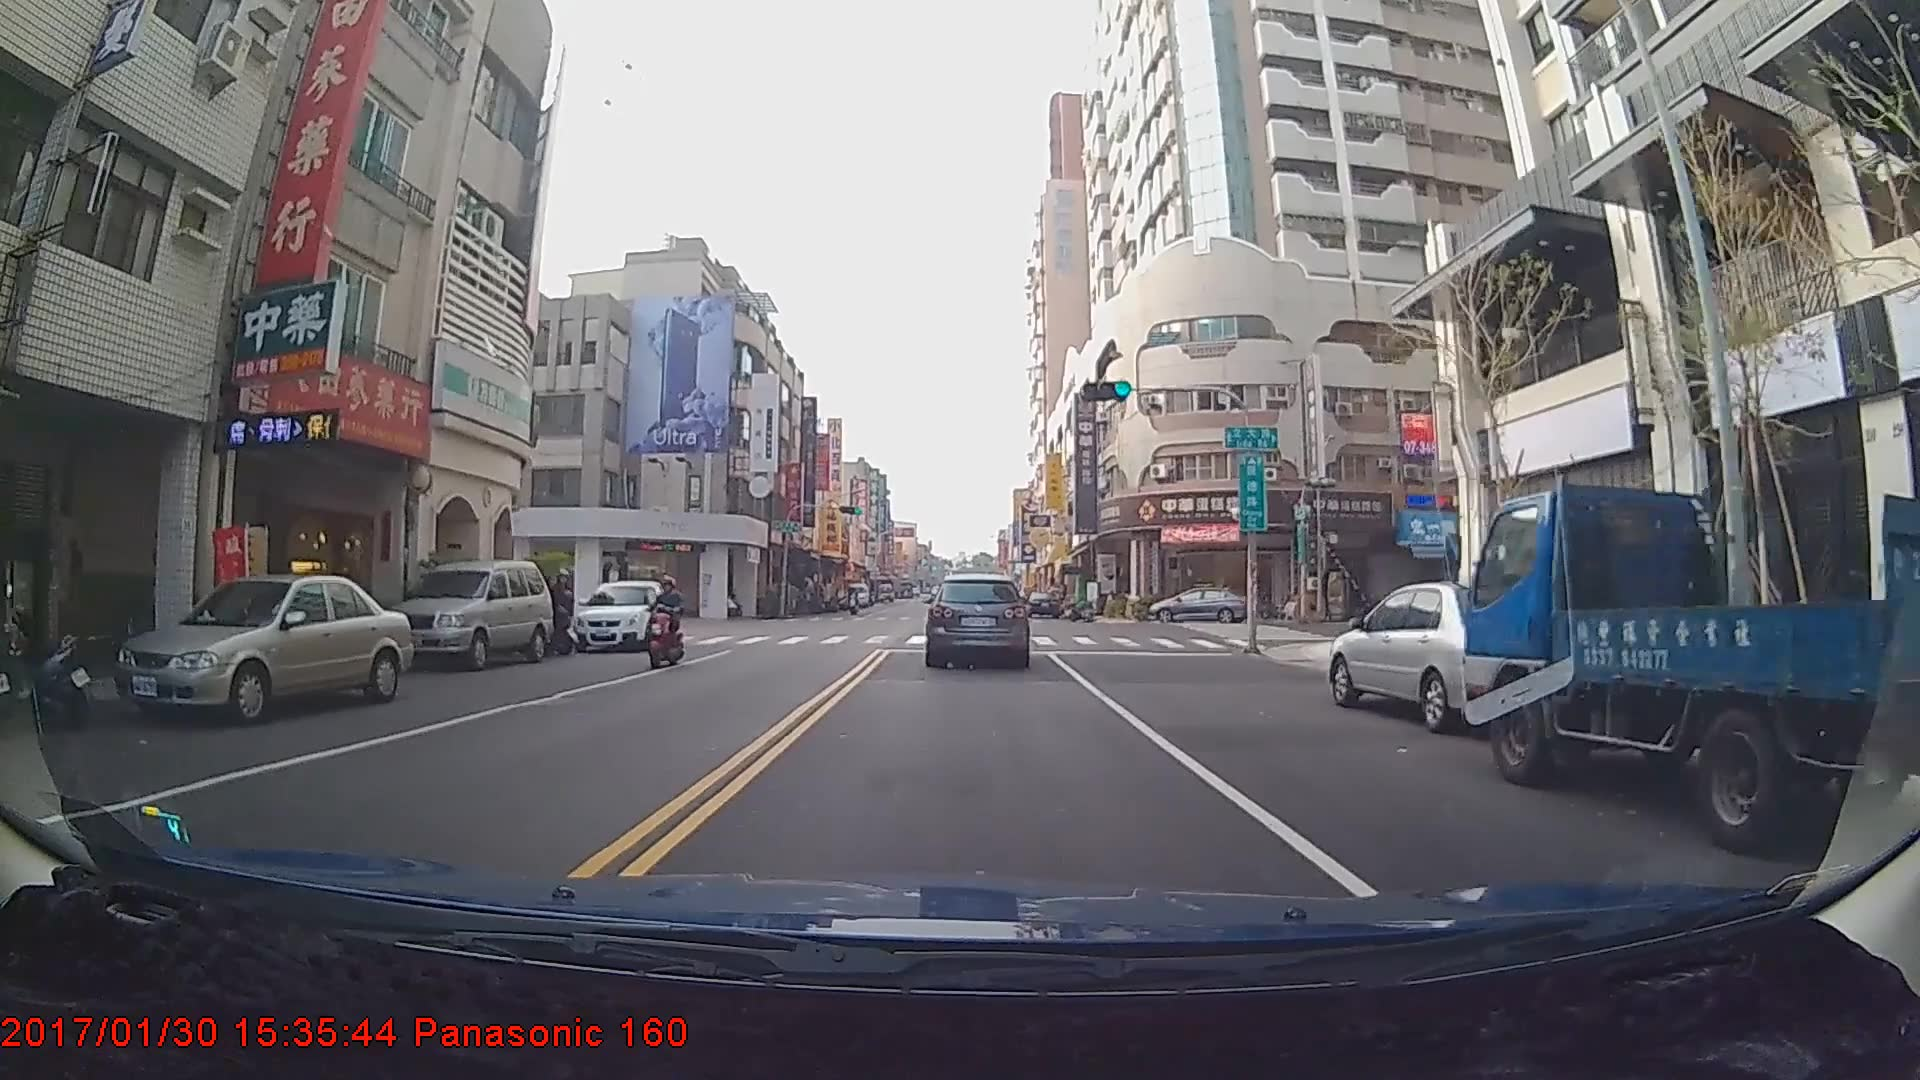rider: (637, 577, 683, 673)
vehicle: (1463, 480, 1920, 853), (113, 574, 403, 729), (1324, 580, 1565, 734), (385, 557, 555, 670), (925, 573, 1029, 668), (571, 576, 666, 651), (1146, 585, 1249, 623), (1023, 588, 1060, 618), (843, 580, 867, 608)
